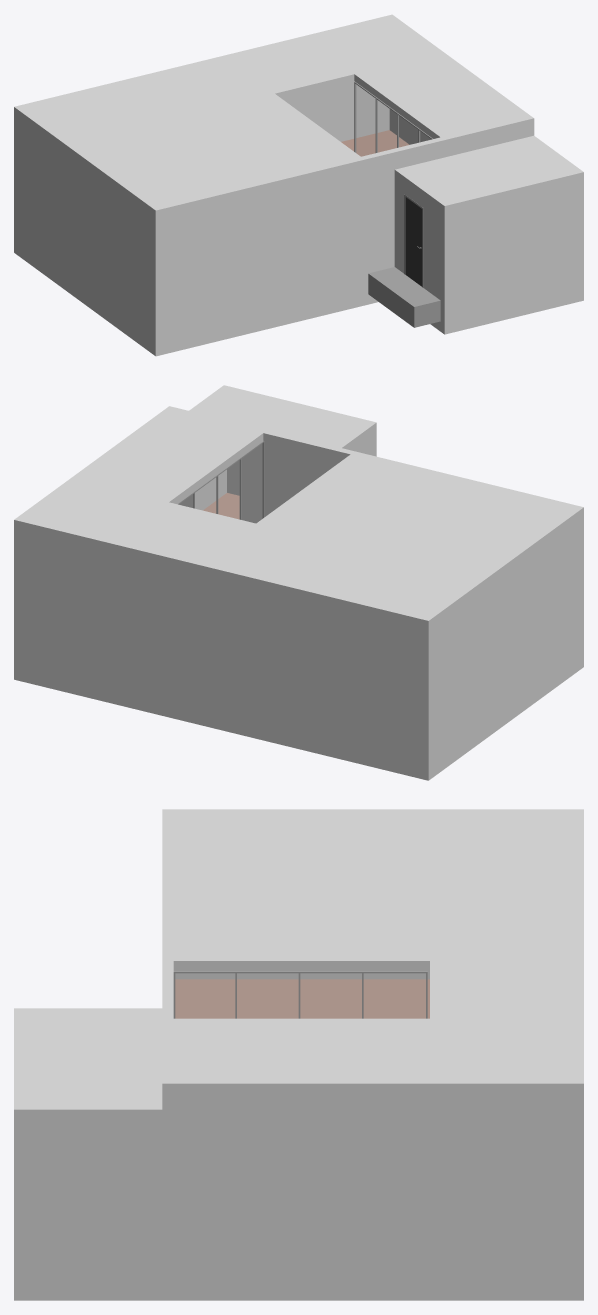
The model's file is CourtyardPlan.fbx.
The picture shows the model from 3 angles, top to bottom: view 1: azimuth 30°, elevation 25°; view 2: azimuth 150°, elevation 25°; view 3: azimuth 270°, elevation 25°; orthographic projection. The views are drawn at different scales.
Parts seen in each view (by area): view 1: CourtyardHouse, AccentWall02, DirtFloor, Door, Windowframe, Floor, AccentWall03; view 2: CourtyardHouse, AccentWall04, EntranceWall, Windowframe, Floor; view 3: CourtyardHouse, Floor, AccentWall01, Windowframe.
Boxes of the visible parts, left/top/right/bottom form: CourtyardHouse: left=14, top=14, right=583, bottom=356; AccentWall02: left=282, top=81, right=389, bottom=141; DirtFloor: left=368, top=267, right=440, bottom=327; Door: left=405, top=197, right=422, bottom=286; Windowframe: left=354, top=82, right=432, bottom=287; Floor: left=341, top=130, right=409, bottom=156; AccentWall03: left=389, top=109, right=431, bottom=144; CourtyardHouse: left=14, top=385, right=583, bottom=780; AccentWall04: left=179, top=433, right=350, bottom=523; EntranceWall: left=198, top=460, right=239, bottom=510; Windowframe: left=177, top=441, right=264, bottom=519; Floor: left=203, top=493, right=239, bottom=519; CourtyardHouse: left=14, top=809, right=583, bottom=1300; Floor: left=175, top=979, right=429, bottom=1018; AccentWall01: left=175, top=971, right=429, bottom=979; Windowframe: left=173, top=971, right=427, bottom=1018.
Bounding box in the file's own units: 11.4 × 4.2 × 10.
